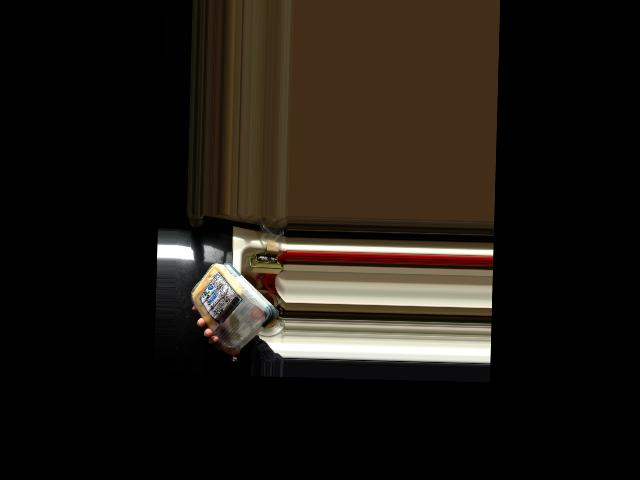cheese: (194, 261, 267, 350)
